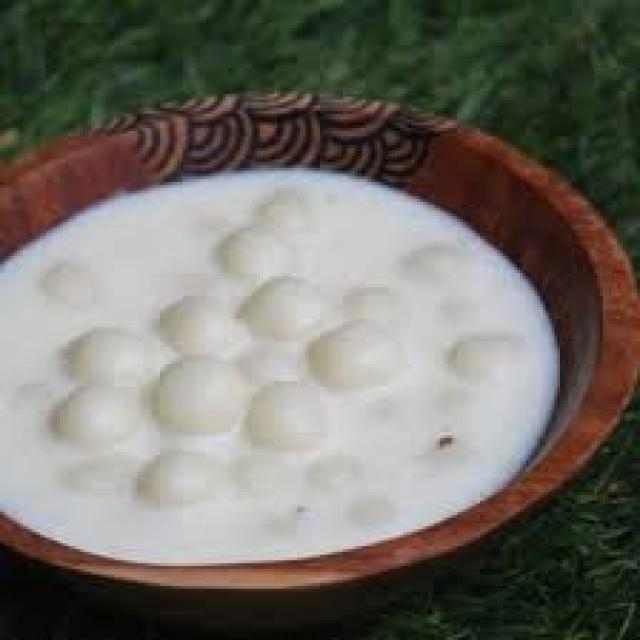paal kolukattai: (0, 141, 541, 564)
